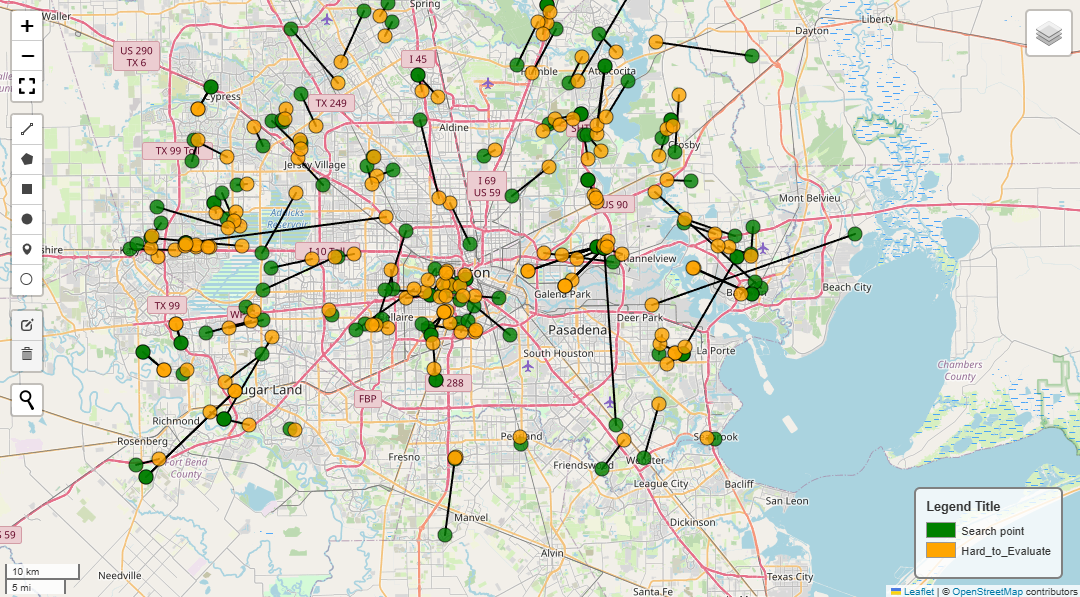

The page's visual inventory and layout, read from the dashboard file:
{"tool":"powerbi","page":{"name":"Страница 2","canvas":[1280,720],"ordinal":1},"visuals":[{"type":"map","fields":{"Y":["automation_issue.lat"],"X":["automation_issue.lon"],"Series":["automation_issue.automation"]},"box":[10.2,0,1269.8,720.2],"z":0},{"type":"actionButton","box":[0,0,100,40],"z":1000}]}

Visuals, with their boxes in screenshot pixels (x1, y1, x2, y2), scaled from the page's 1280x720 canvas onto the 1080x597 screenshot:
map - automation_issue.lat x automation_issue.lon: bbox=(9, 0, 1079, 596)
actionButton: bbox=(0, 0, 84, 33)
